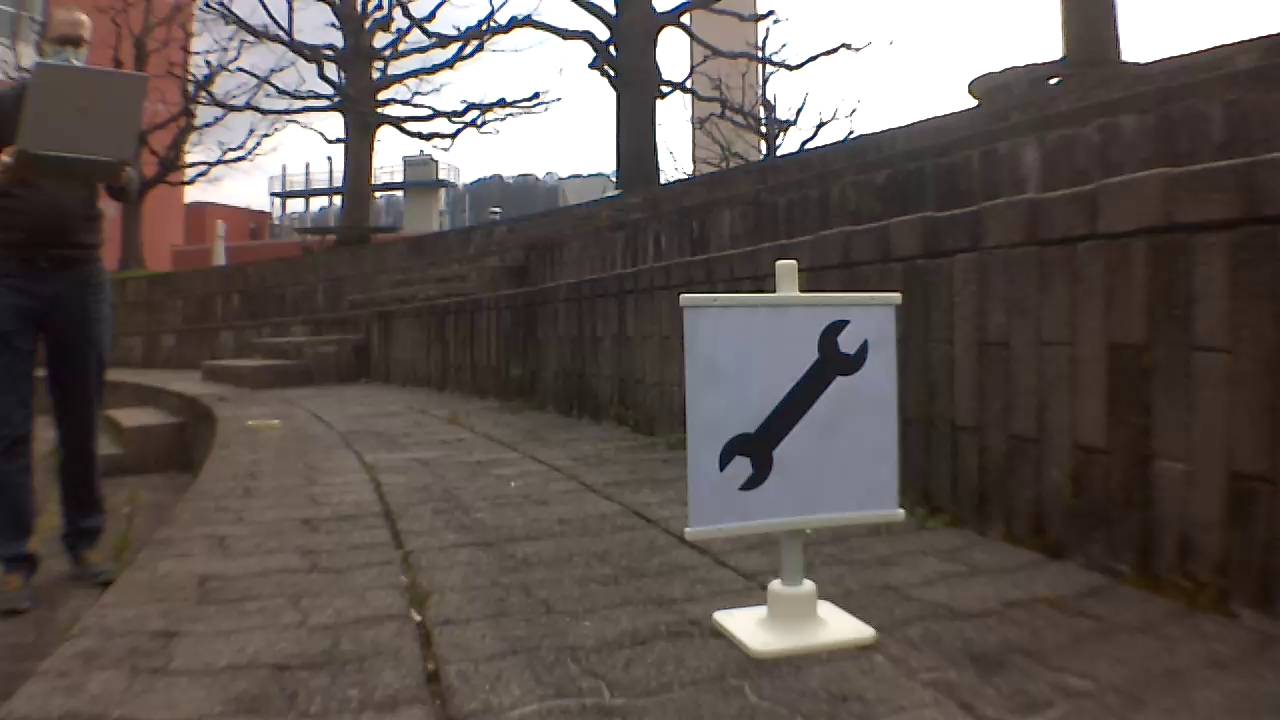wrench: (718, 318, 872, 495)
